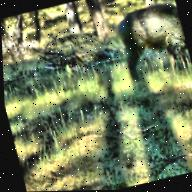boar: (109, 0, 192, 93)
